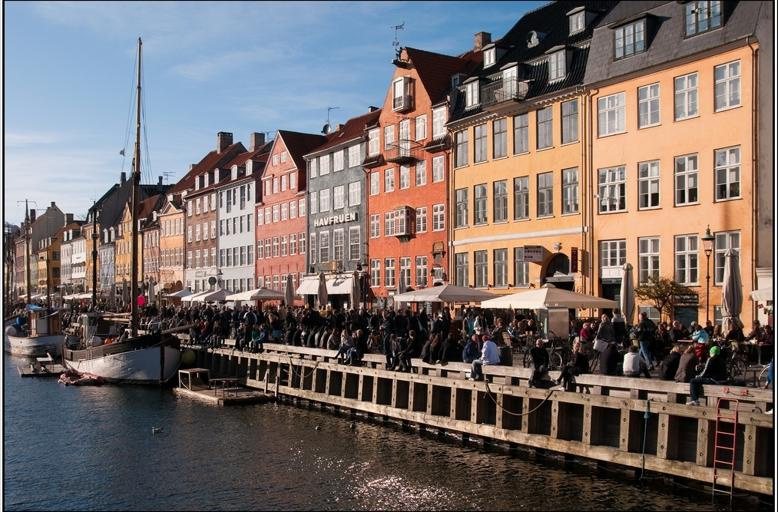non-vehicle: (715, 338, 748, 384), (588, 331, 608, 374), (522, 335, 535, 368), (757, 362, 769, 389)
